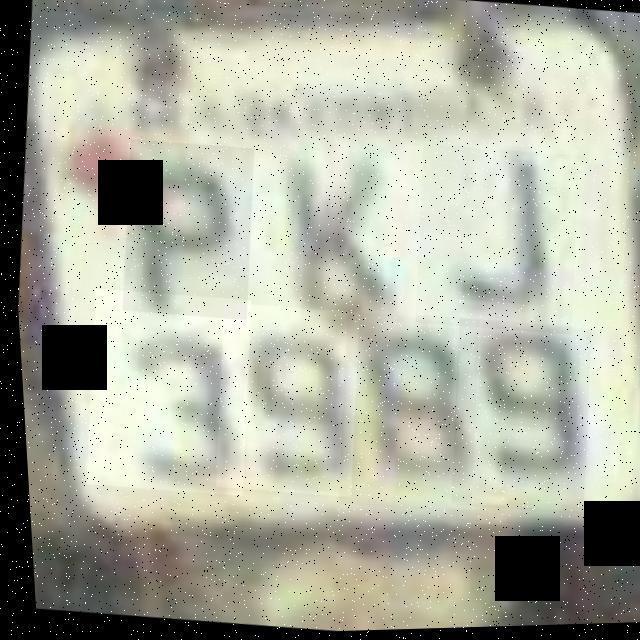3: (71, 285, 256, 500)
8: (323, 310, 483, 518)
9: (200, 300, 364, 502), (435, 319, 596, 521)
J: (402, 143, 585, 342)
P: (110, 137, 260, 324)
